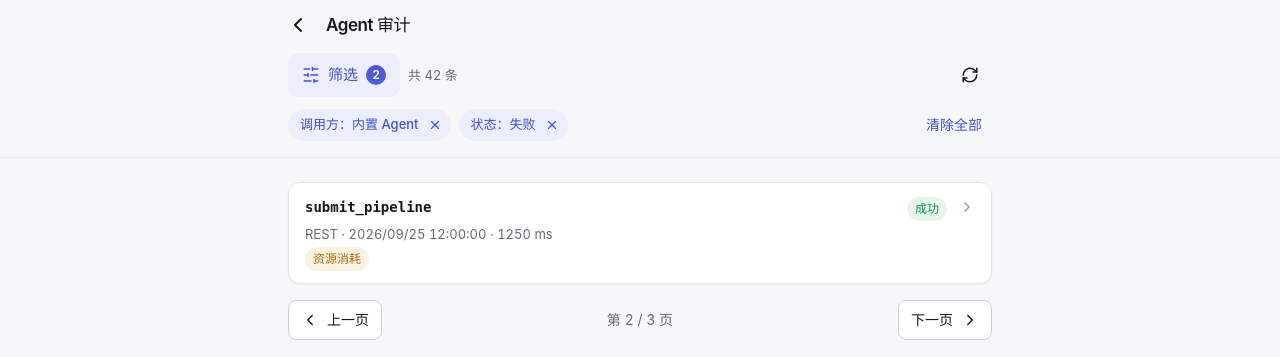
Agent audit page › removes a single filter chip or all of them and keeps the URL in sync
Expected: the button with aria-label "筛选，已生效 2 项" is shown, [288,53,400,97]
Expected: the text "第 2 / 3 页" is shown, [607,310,673,330]
Click the button named "移除筛选条件：状态：失败" at (552, 125), box [540,113,564,137]
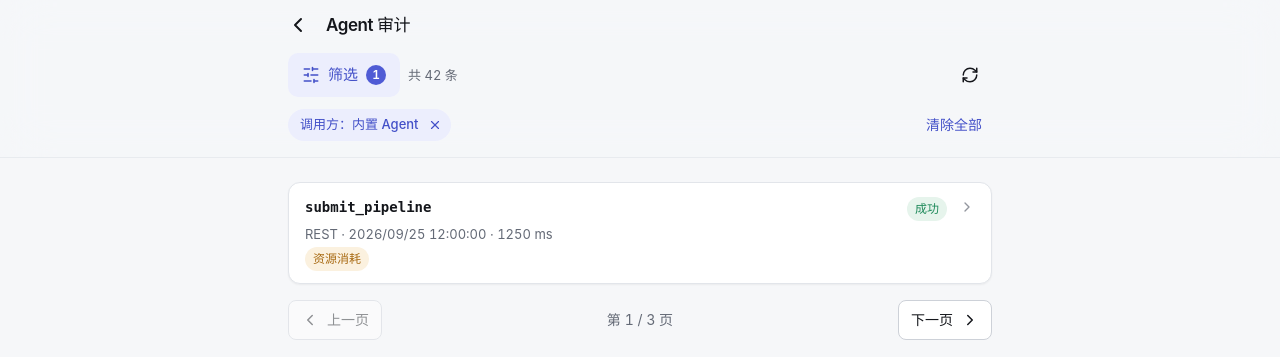
Click the button "清除全部" at (954, 125), box [916,105,992,145]
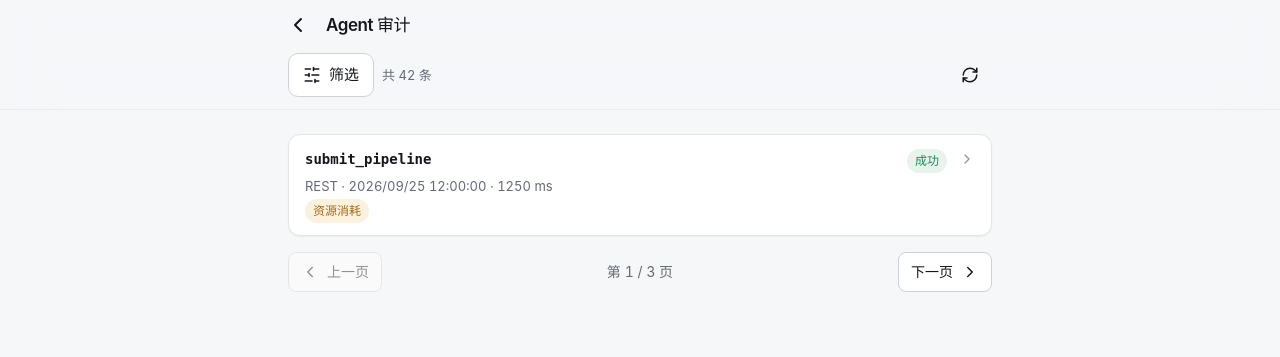
Expected: the button "筛选" is shown, [288,53,374,97]
Expected: the list "生效的筛选条件" is gone
